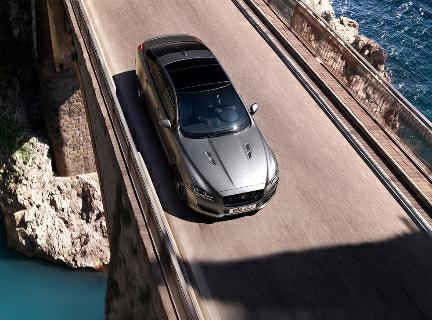捷豹-XJ: (132, 32, 284, 226)
